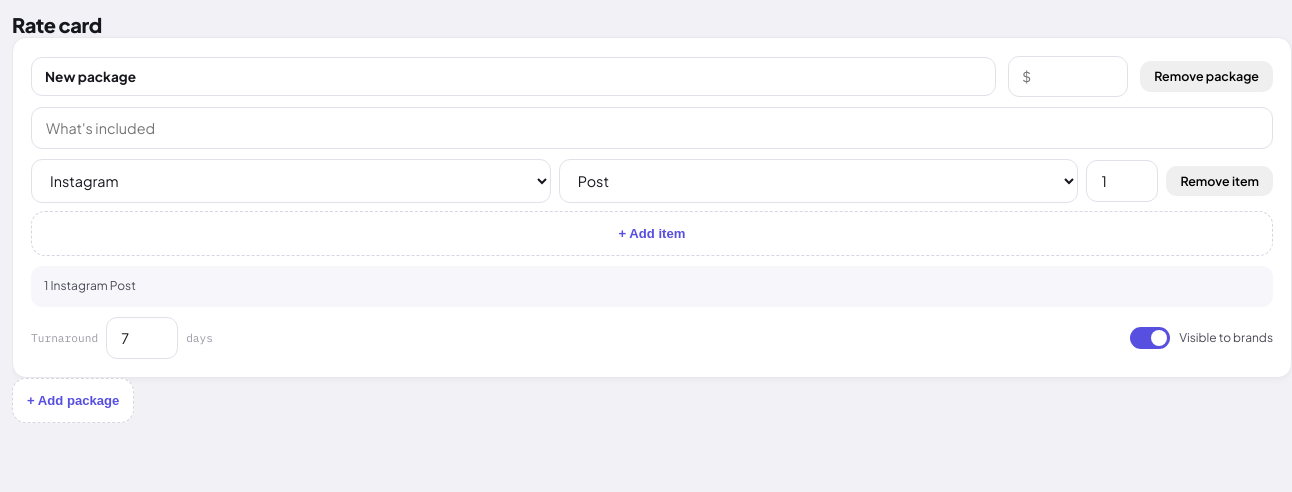
Scenario: adds and removes an item within a package
This screenshot has width=1292, height=492.
Check: the number of elements with test id "rate-item" is 1, box x1=31 y1=159 x2=1273 y2=203
Click the button "+ Add item" at {"x": 652, "y": 234}, box x1=31 y1=211 x2=1273 y2=256
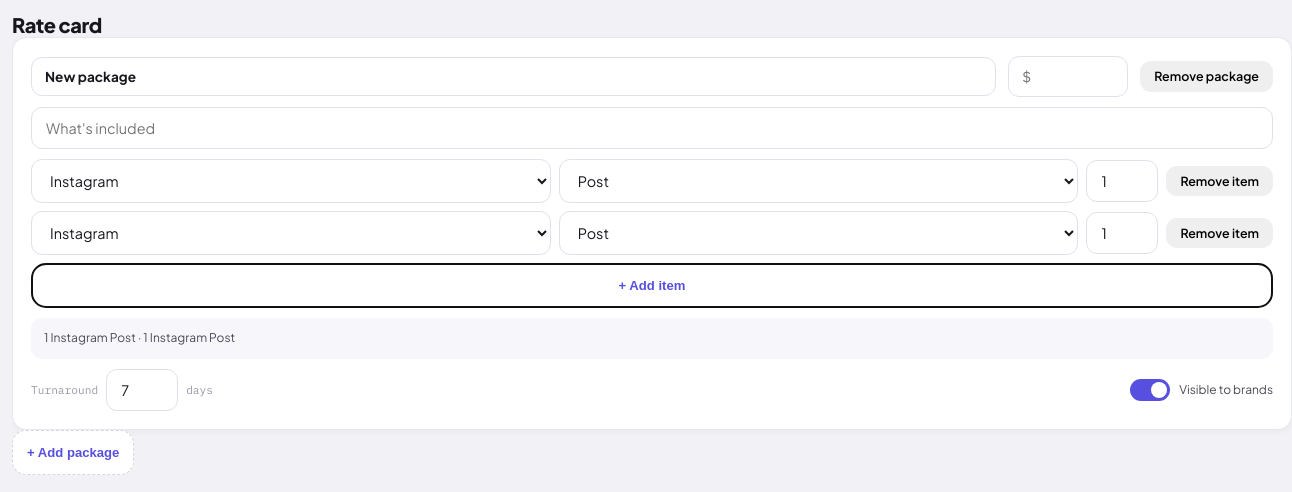
Check: the number of elements with test id "rate-item" is 2, box x1=31 y1=159 x2=1273 y2=203; x1=31 y1=211 x2=1273 y2=255
Click the 1st button "Remove item" at {"x": 1220, "y": 181}, box x1=1166 y1=166 x2=1273 y2=196
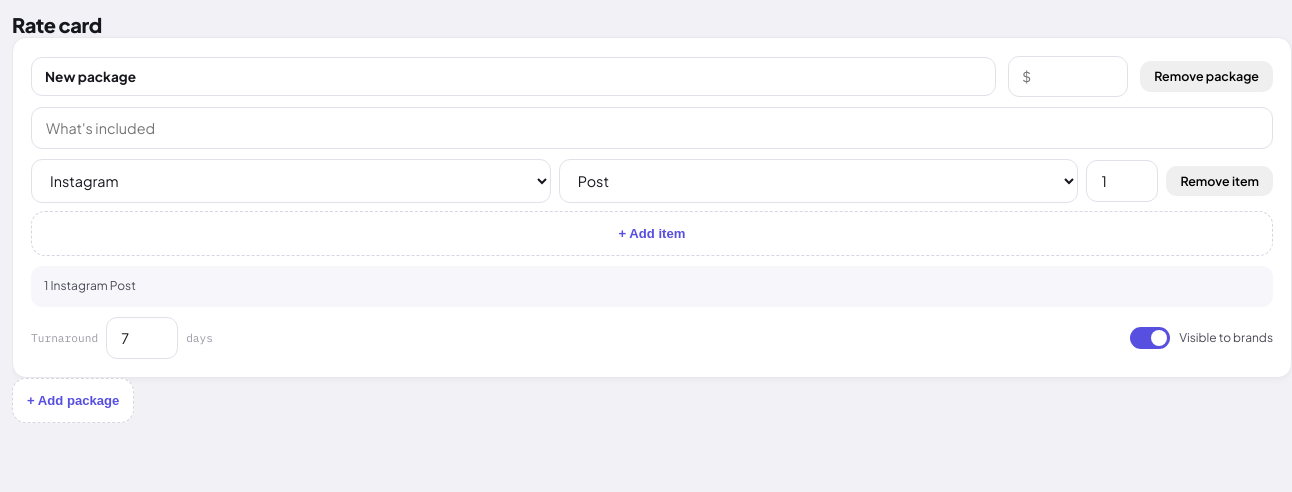
Check: the number of elements with test id "rate-item" is 1, box x1=31 y1=159 x2=1273 y2=203
